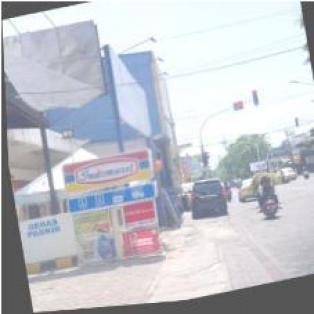Semaforo Rojo: (250, 91, 259, 108), (199, 155, 205, 170), (312, 128, 314, 148)
